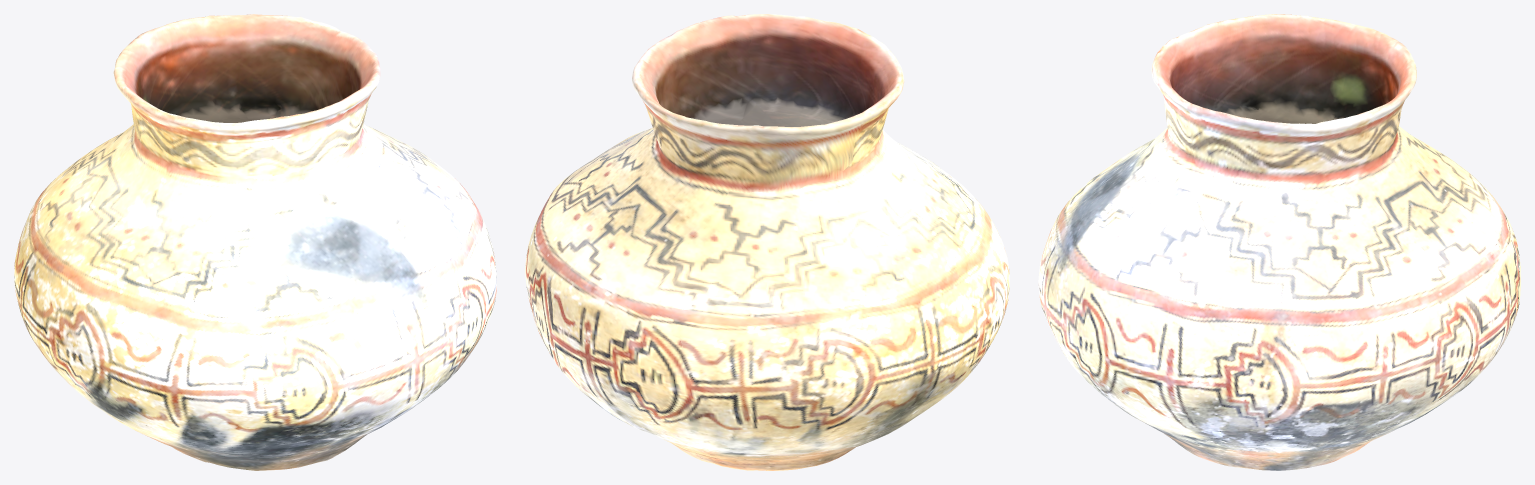
The model's file is cotocina.glb.
3 views of the same model, side by side, from view 1: azimuth 30°, elevation 25°; view 2: azimuth 150°, elevation 25°; view 3: azimuth 270°, elevation 25° (orthographic).
Size of the model in its own units: 4.73 by 3.99 by 4.75.
